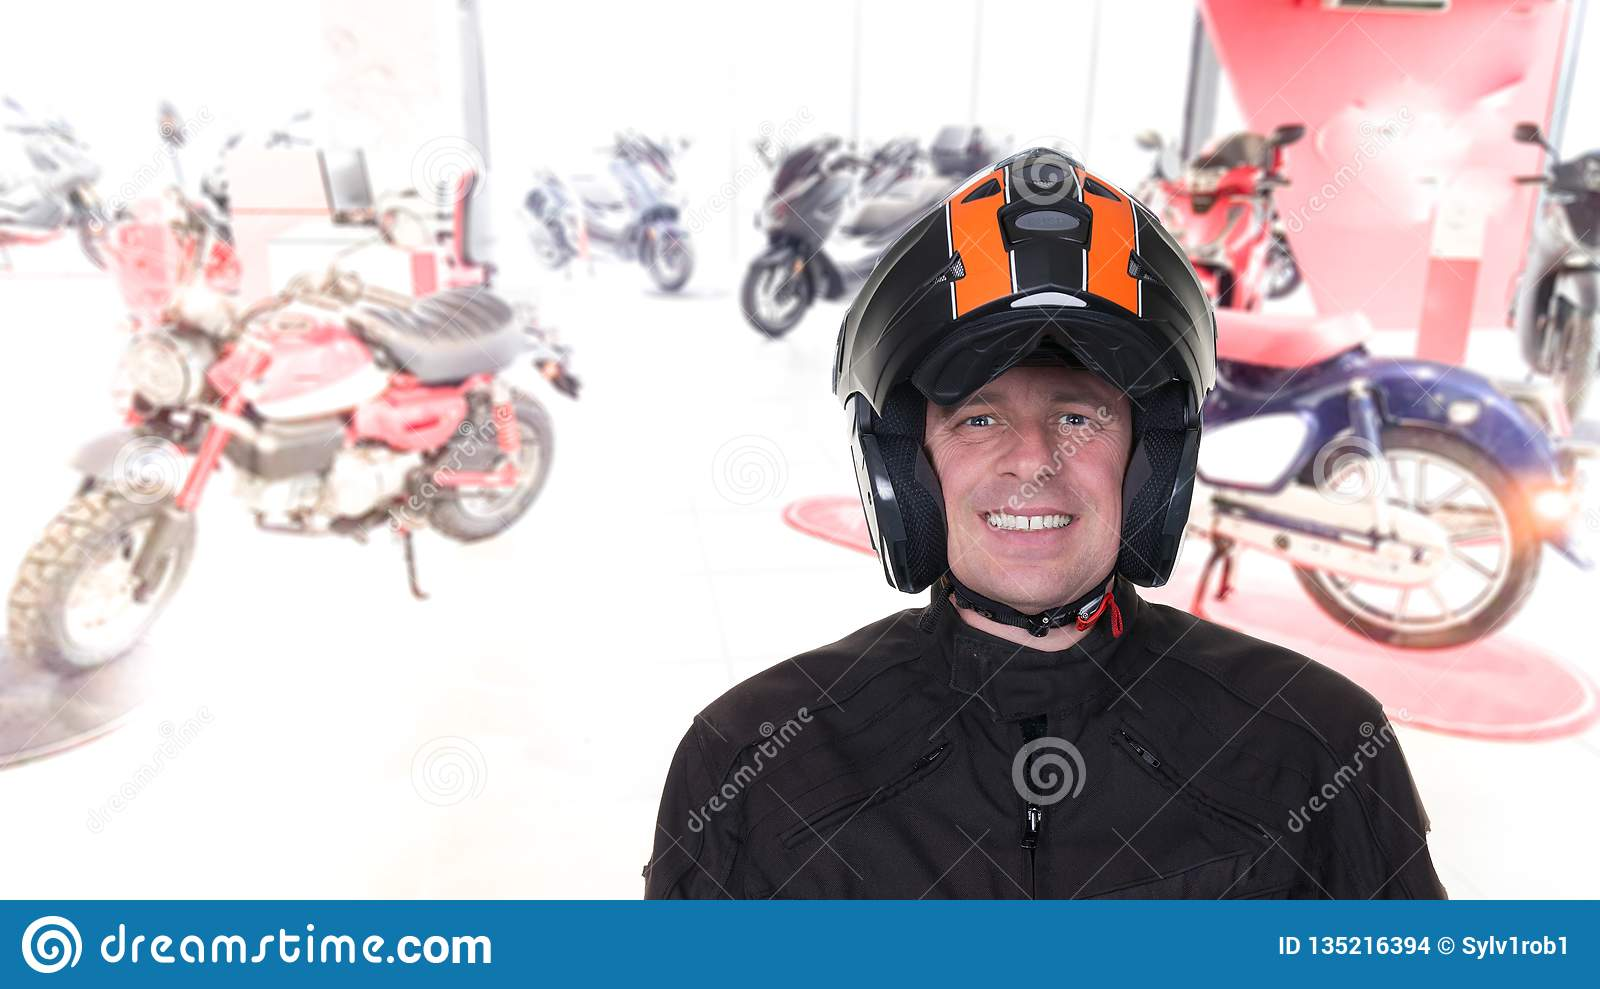helmet: (829, 197, 1219, 619)
